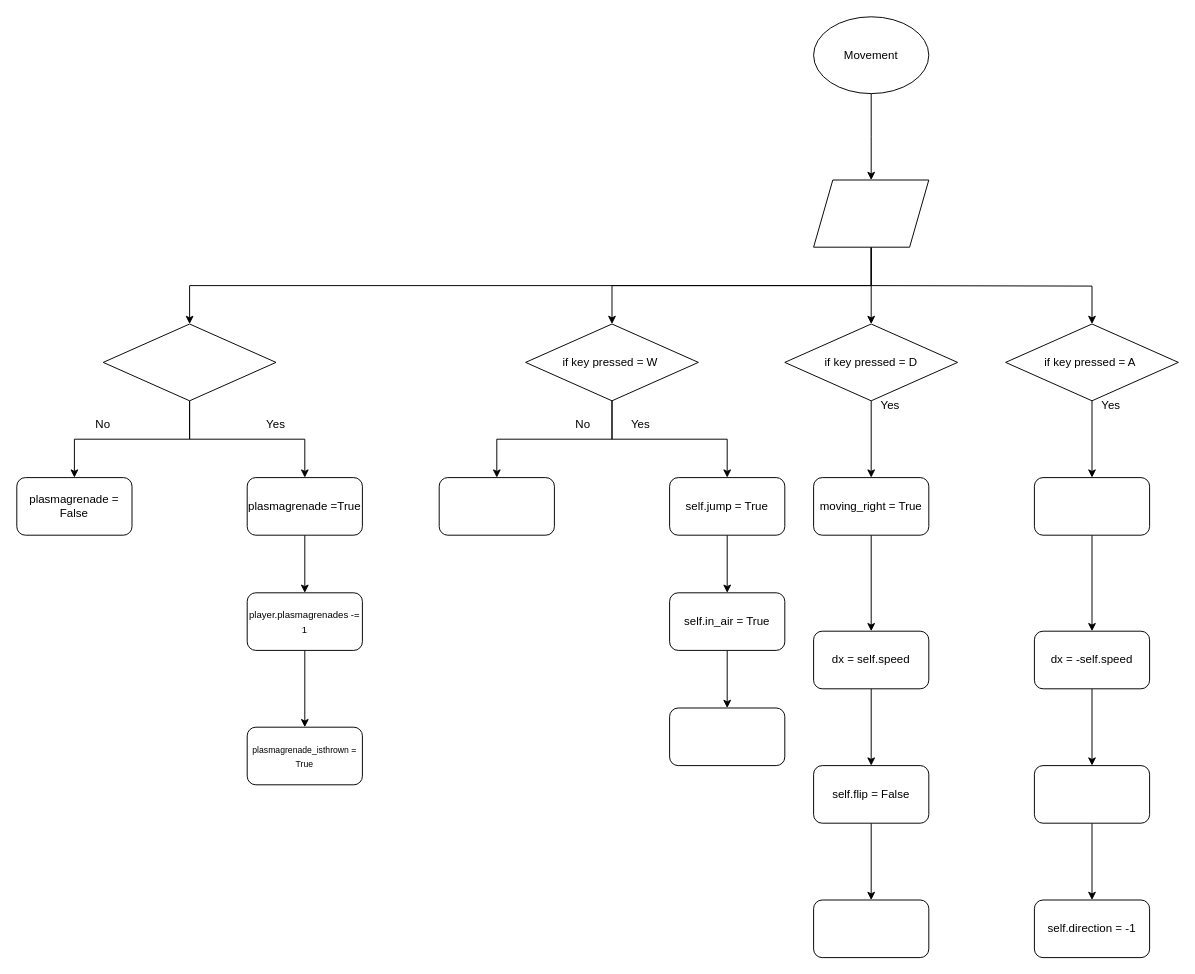
Some shapes in this 1195 by 974 pixel diagram are drawn without their labels. The box of each missing label's shape, as (x1, y1, x2, y2) in pixels:
if key pressed = Q: (102, 323, 276, 401)
key pressed= keyboard input: (813, 179, 929, 247)
moving_left = True: (1033, 477, 1150, 535)
player.jump = True: (669, 707, 785, 766)
self.direction = 1: (813, 899, 929, 958)
self.flip = True: (1033, 765, 1150, 823)
self.jump = False: (438, 477, 554, 535)
